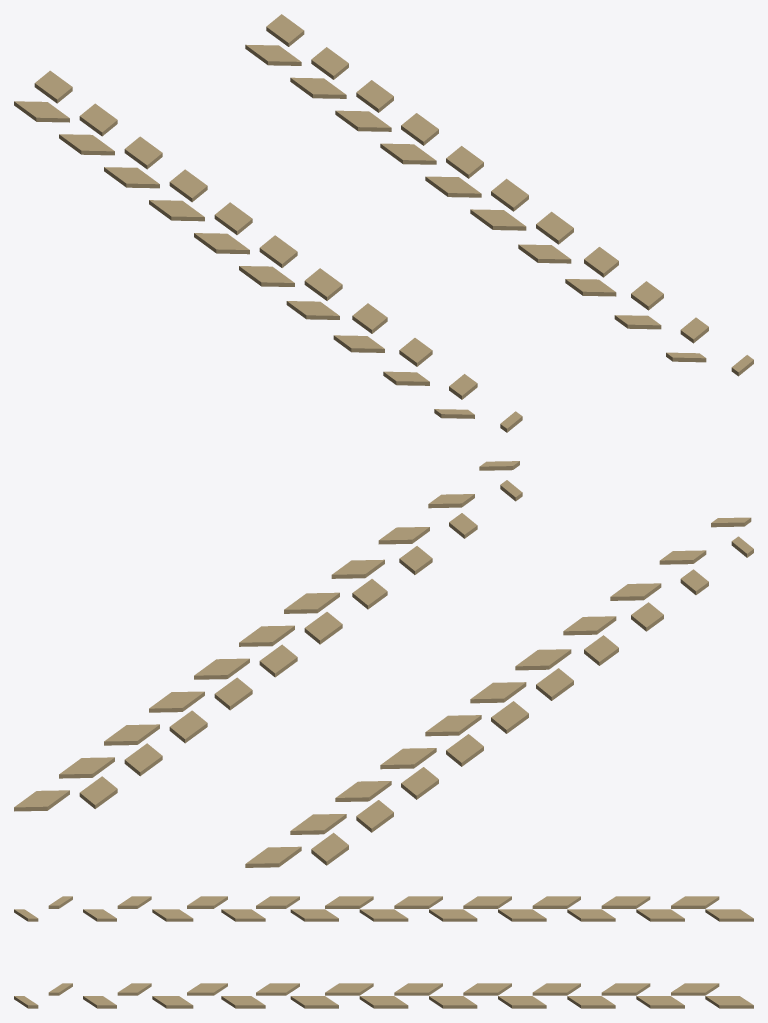
Rendered from 20C_Tankshadow.fbx.
3 renders of one model, top to bottom at view 1: azimuth 30°, elevation 25°; view 2: azimuth 150°, elevation 25°; view 3: azimuth 270°, elevation 25°, orthographic. The views are drawn at different scales.
Parts seen in each view (by area): view 1: 20C_Tankshadow; view 2: 20C_Tankshadow; view 3: 20C_Tankshadow.
Part boxes in pixels (x1,y1,x2,y2): 20C_Tankshadow: (14,14,753,432); 20C_Tankshadow: (14,461,753,867); 20C_Tankshadow: (14,896,753,1008).
Bounding box in the file's own units: 33.68 × 0.456 × 96.78.
